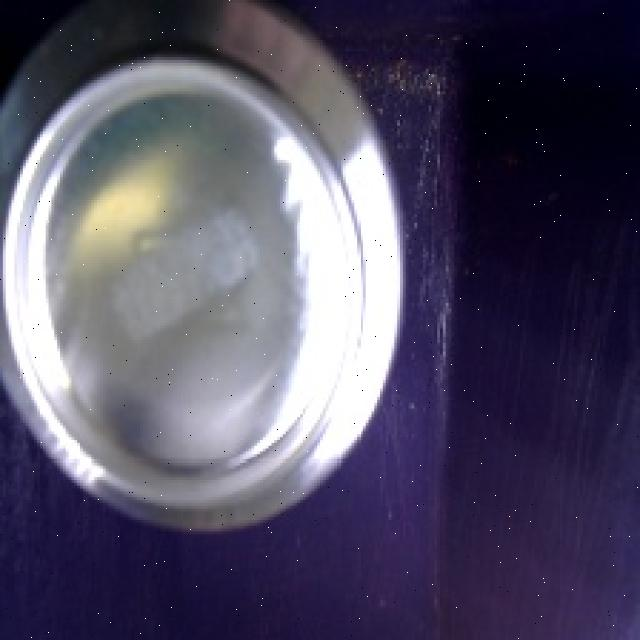metal: (0, 3, 426, 551)
